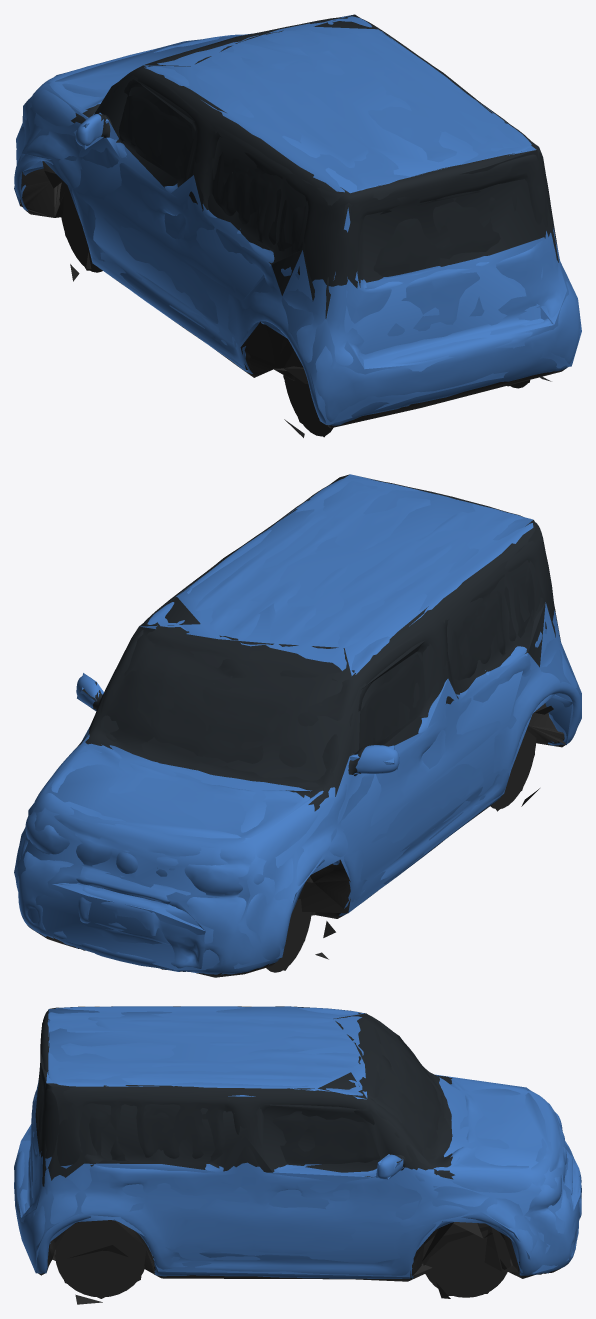
File: nissan-cube.glb
3 renders of one model, top to bottom at view 1: azimuth 30°, elevation 25°; view 2: azimuth 150°, elevation 25°; view 3: azimuth 270°, elevation 25°, orthographic. The views are drawn at different scales.
Visible parts, largest first — view 1: body, far; view 2: body, far; view 3: body, far.
Boxes of the visible parts, <box> form: body: <box>14,16,580,437</box>; far: <box>14,14,581,437</box>; body: <box>15,477,581,977</box>; far: <box>14,474,581,970</box>; body: <box>14,1006,581,1304</box>; far: <box>14,1006,581,1298</box>.
Size of the model in its own units: 2.14 by 1.7 by 4.04.
